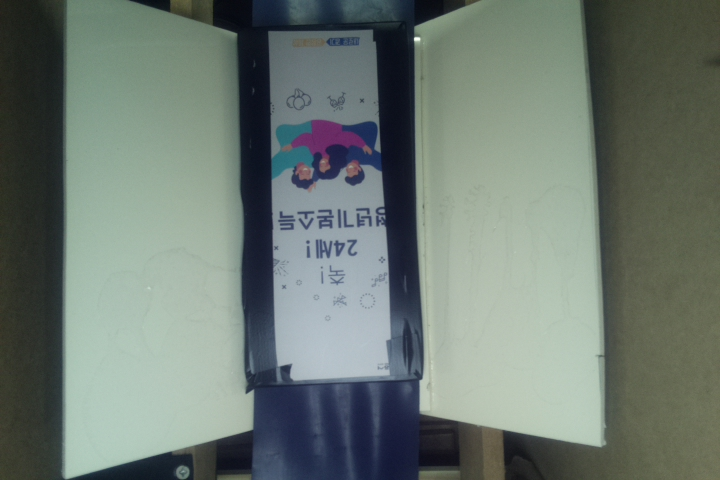book: (235, 21, 418, 383)
